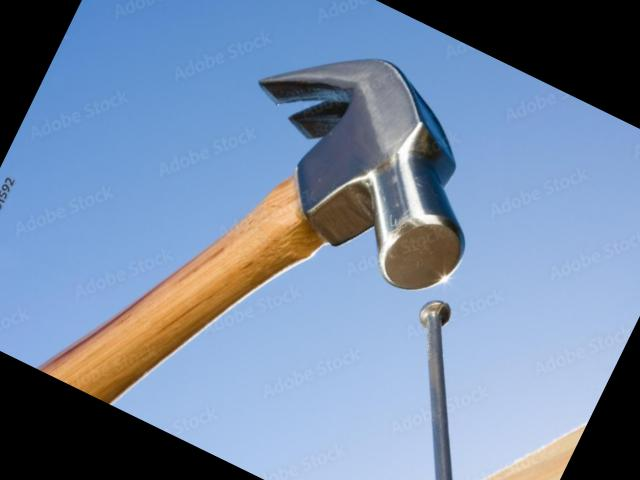hammer: (35, 0, 531, 480)
